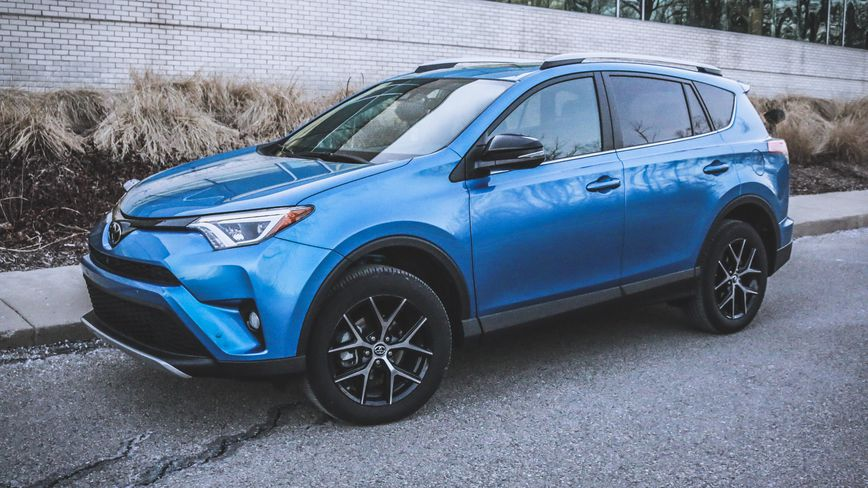Toyota RAV-4: (79, 60, 794, 428)
